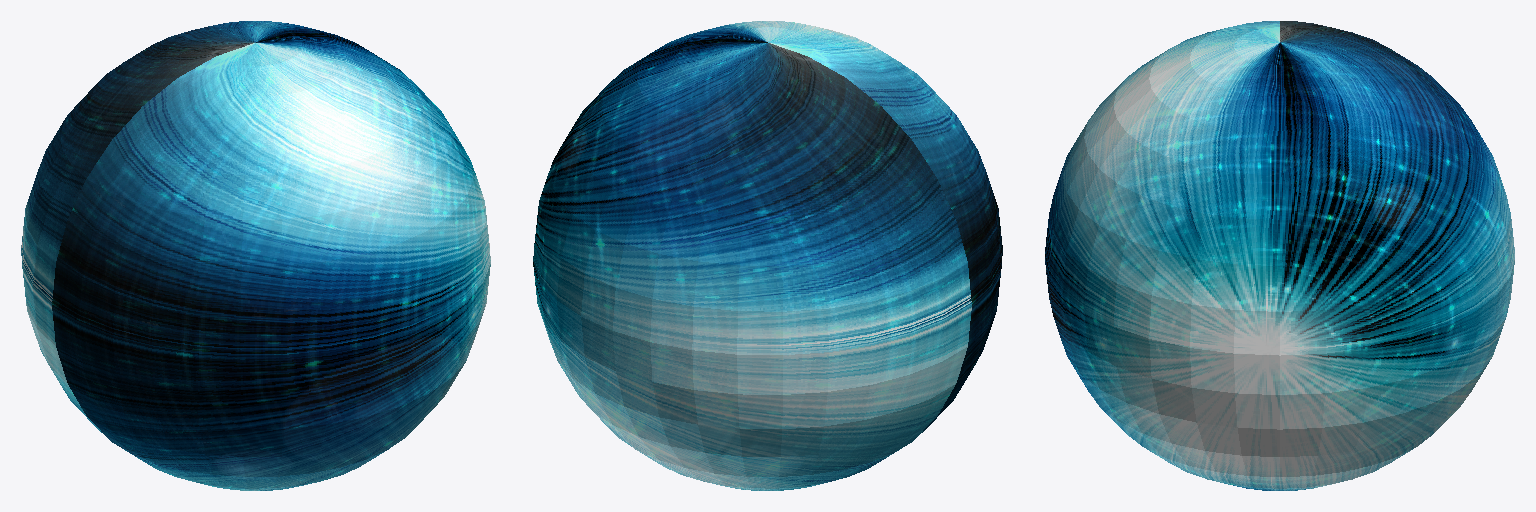
The picture shows the model from 3 angles: view 1: azimuth 30°, elevation 25°; view 2: azimuth 150°, elevation 25°; view 3: azimuth 270°, elevation 25°; orthographic projection.
Parts seen in each view (by area): view 1: 球; view 2: 球; view 3: 球.
Part boxes in pixels (bbox=[...]): 球: bbox=[21, 21, 490, 490]; 球: bbox=[533, 21, 1002, 490]; 球: bbox=[1045, 21, 1514, 490].
Bounding box in the file's own units: 80.02 × 80.02 × 80.02.
1 materials, 1 textured.